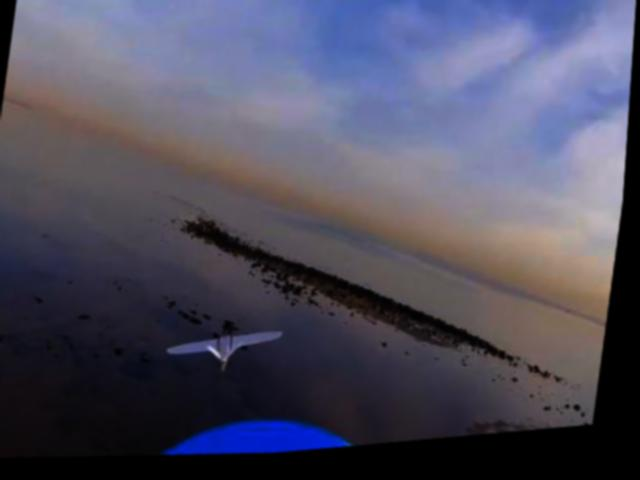uav: (165, 320, 290, 380)
